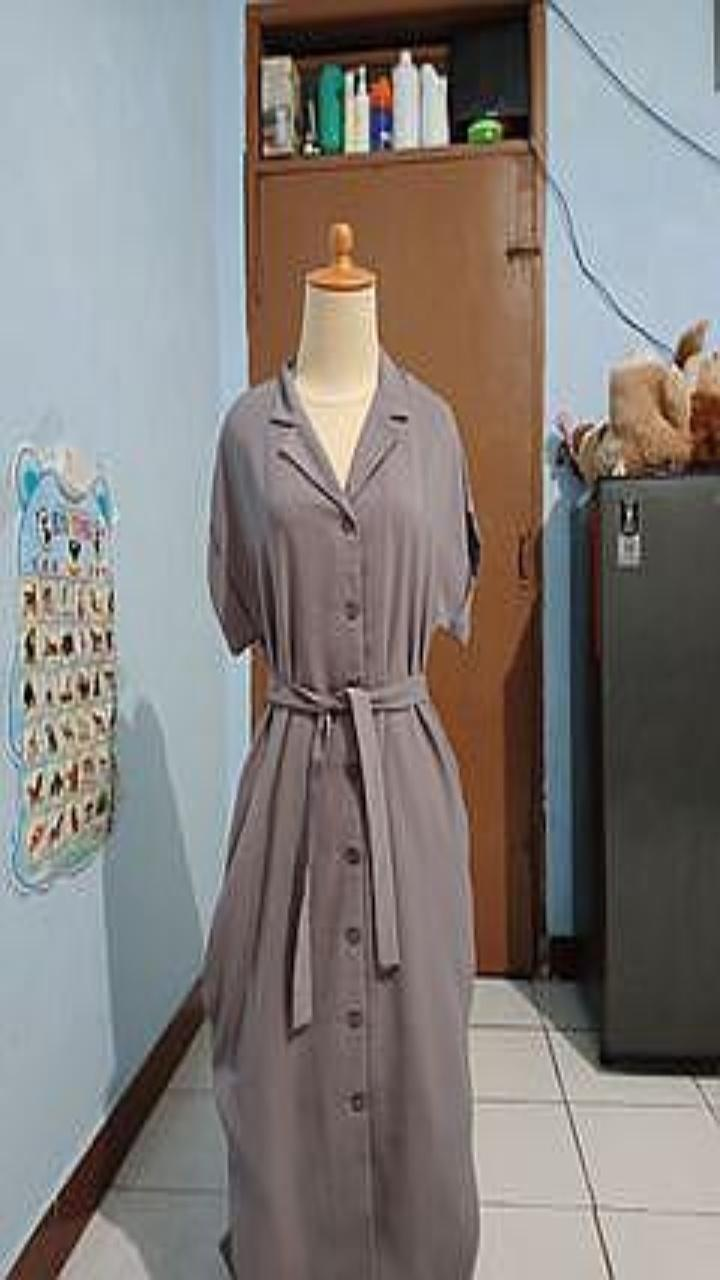Dresses: (203, 349, 480, 1279)
